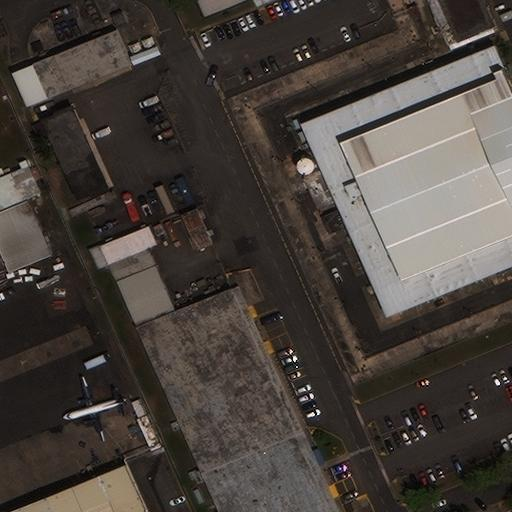Medium Civil Transport: (61, 376, 125, 440)
